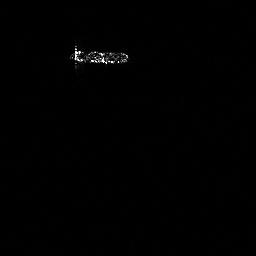ship: (64, 40, 132, 71)
